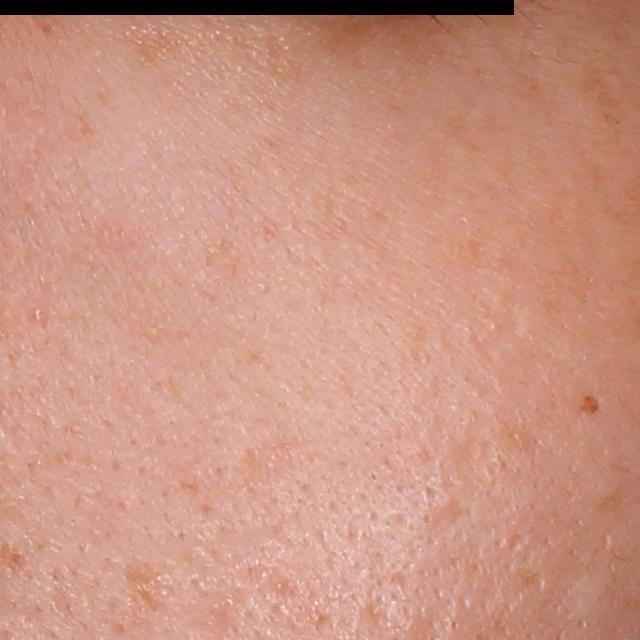melasma: (573, 64, 637, 150), (121, 20, 194, 75), (578, 393, 600, 415)
